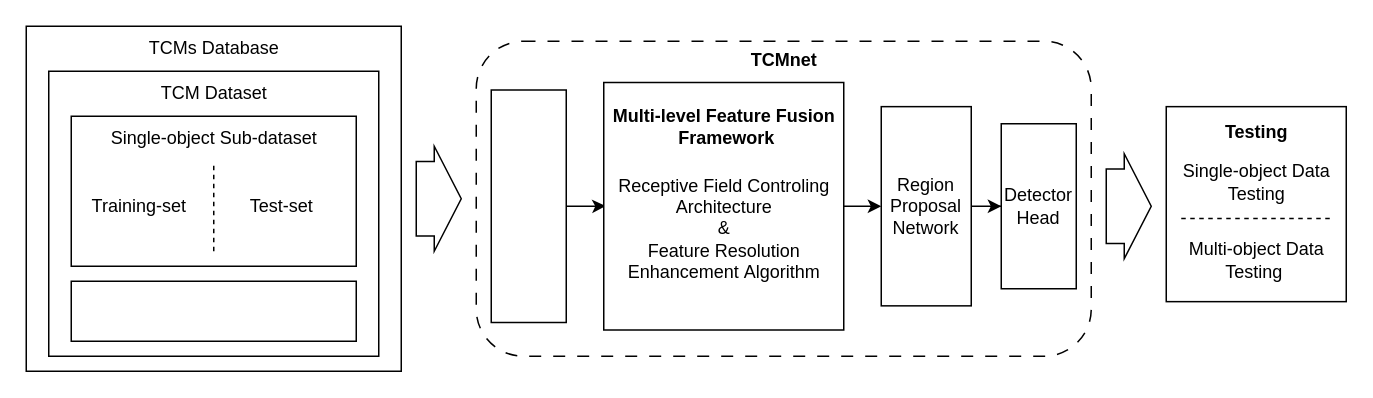
The diagram is 1373 pixels wide and 398 high, and some of its shapes have lost their labels. Each missing label, with the box of its shape:
Multi-object Sub-dataset Test-set: (70, 280, 356, 341)
Single-object Training Data Input: (490, 88, 566, 322)
